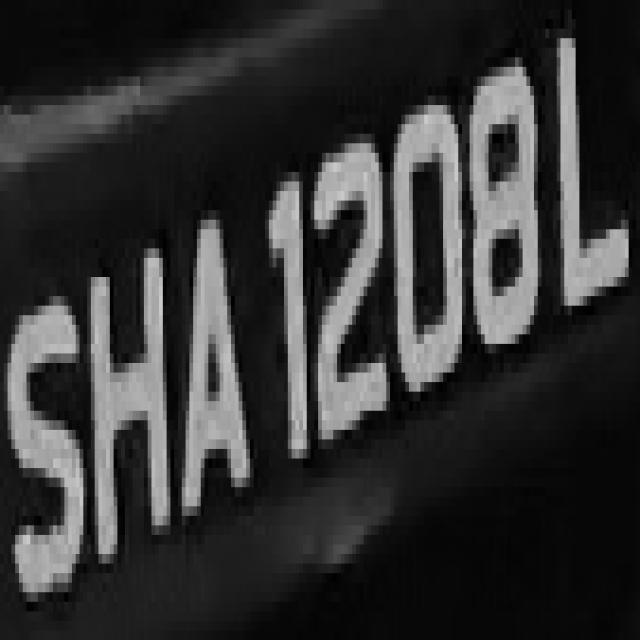0: (382, 76, 473, 411)
1: (261, 124, 322, 487)
2: (303, 134, 398, 458)
8: (454, 57, 546, 363)
A: (174, 182, 258, 526)
H: (80, 229, 170, 592)
L: (546, 0, 632, 344)
S: (0, 258, 87, 621)
